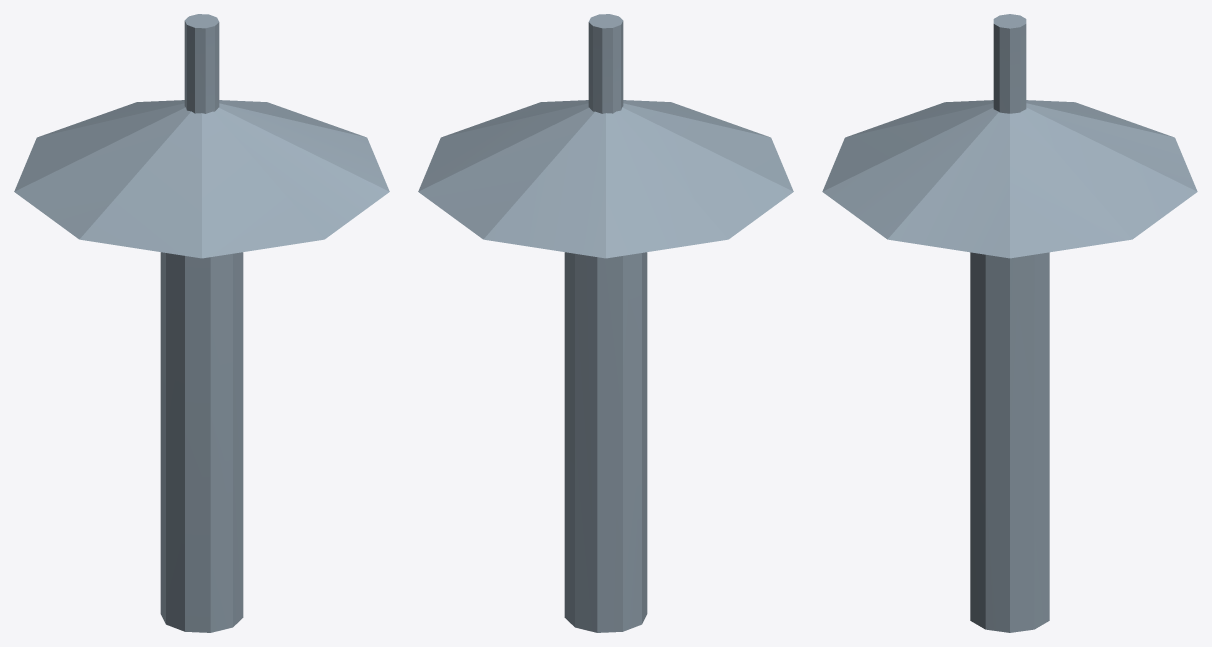
The model's file is satellite_dish-04.glb.
3 renders of one model, left to right at view 1: azimuth 30°, elevation 25°; view 2: azimuth 150°, elevation 25°; view 3: azimuth 270°, elevation 25°, orthographic.
Visible parts, largest first — view 1: world; view 2: world; view 3: world.
Part boxes in pixels (x1=…): world: x1=14, y1=14, x2=389, y2=632; world: x1=418, y1=14, x2=793, y2=632; world: x1=822, y1=14, x2=1197, y2=632.
Bounding box in the file's own units: 1.07 × 1.89 × 1.08.
